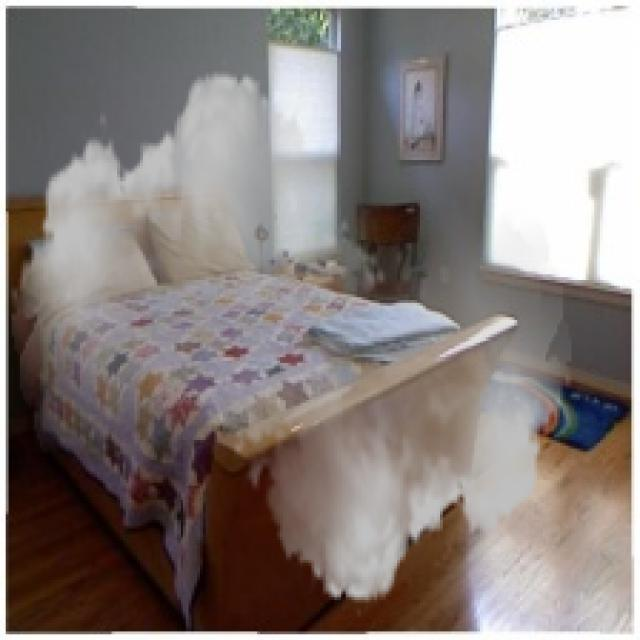smoke: (11, 54, 572, 620)
